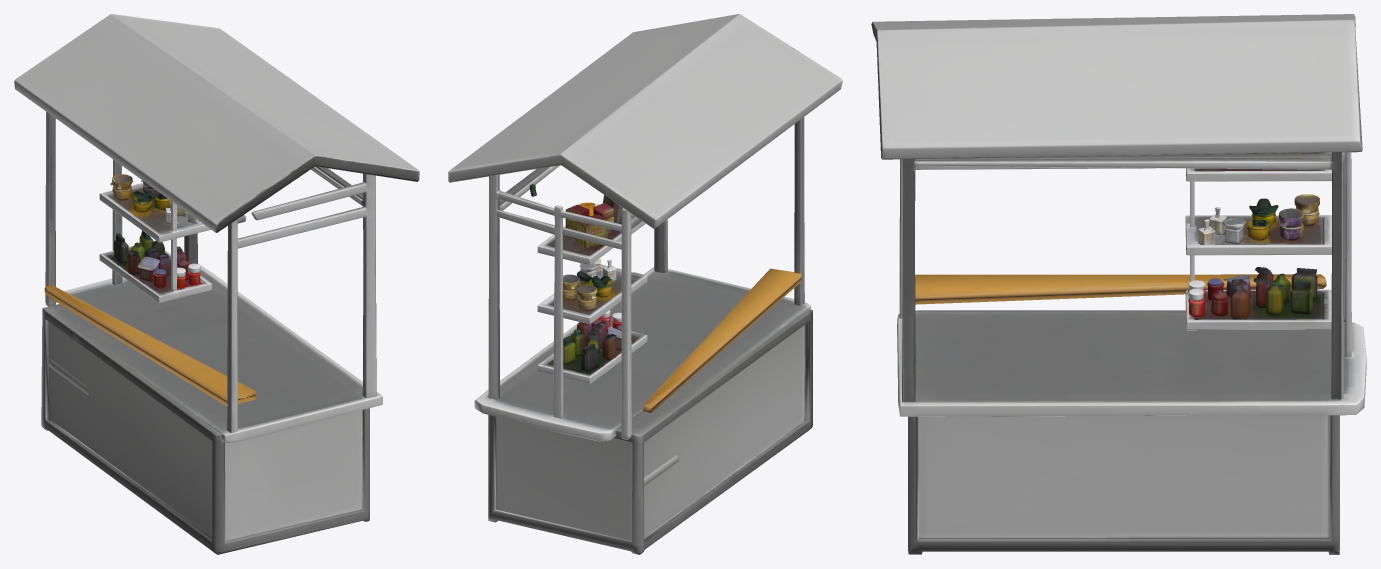
The model's file is tripo_convert_5eb7bf35-9240-46da-a9e1-6da3d02123e9.glb.
The picture shows the model from 3 angles, left to right: view 1: azimuth 30°, elevation 25°; view 2: azimuth 150°, elevation 25°; view 3: azimuth 270°, elevation 25°; orthographic projection. The views are drawn at different scales.
Parts seen in each view (by area): view 1: tripo_node_5eb7bf35-9240-46da-a9e1-6da3d02123e9; view 2: tripo_node_5eb7bf35-9240-46da-a9e1-6da3d02123e9; view 3: tripo_node_5eb7bf35-9240-46da-a9e1-6da3d02123e9.
Part boxes in pixels (<box>): tripo_node_5eb7bf35-9240-46da-a9e1-6da3d02123e9: <box>14,14,419,554</box>; tripo_node_5eb7bf35-9240-46da-a9e1-6da3d02123e9: <box>448,14,842,554</box>; tripo_node_5eb7bf35-9240-46da-a9e1-6da3d02123e9: <box>871,14,1366,554</box>.
Size of the model in its own units: 0.5708 by 0.9995 by 0.9204.
Materials: 1 (1 with a texture image).
